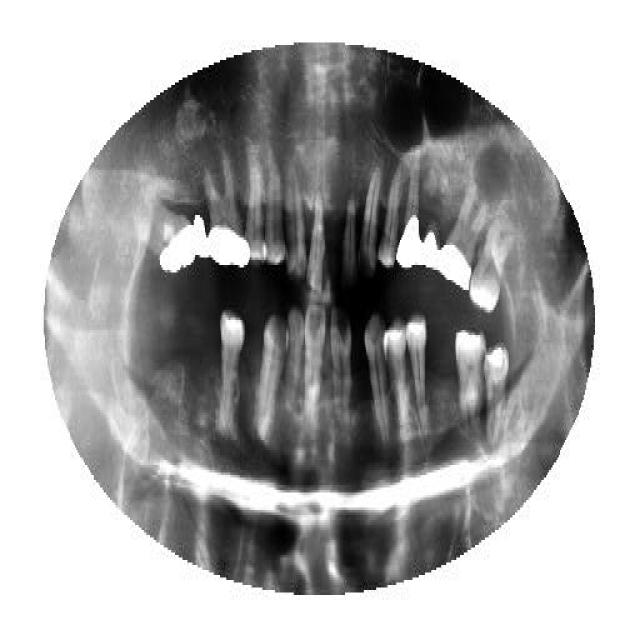Fillings: (131, 190, 205, 272), (440, 178, 488, 290), (206, 152, 249, 268), (396, 160, 422, 268), (485, 340, 507, 450), (421, 220, 440, 275)
Impacted Tooth: (132, 190, 206, 275)
